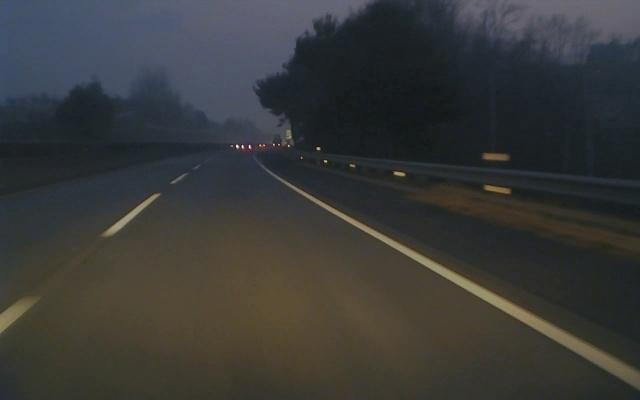lane: (276, 178, 640, 392), (0, 173, 188, 333)
